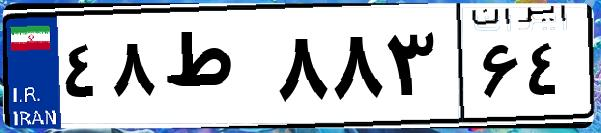3: (385, 28, 445, 110)
4: (57, 26, 110, 100), (525, 38, 570, 115)
6: (475, 38, 525, 113)
8: (270, 28, 330, 110), (330, 28, 385, 110), (110, 28, 158, 98)
ط: (158, 20, 270, 120)
